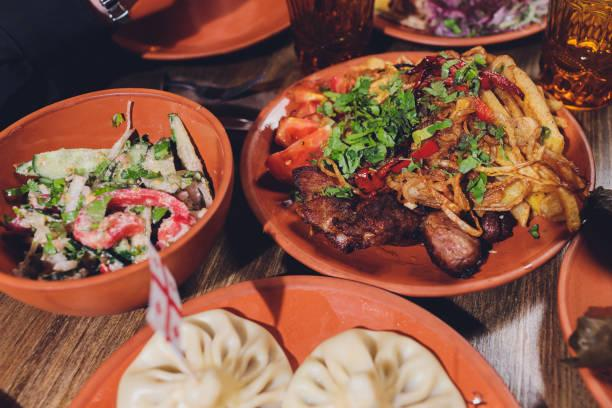Braised Crucian Carp: (240, 54, 592, 295), (1, 87, 233, 314)
